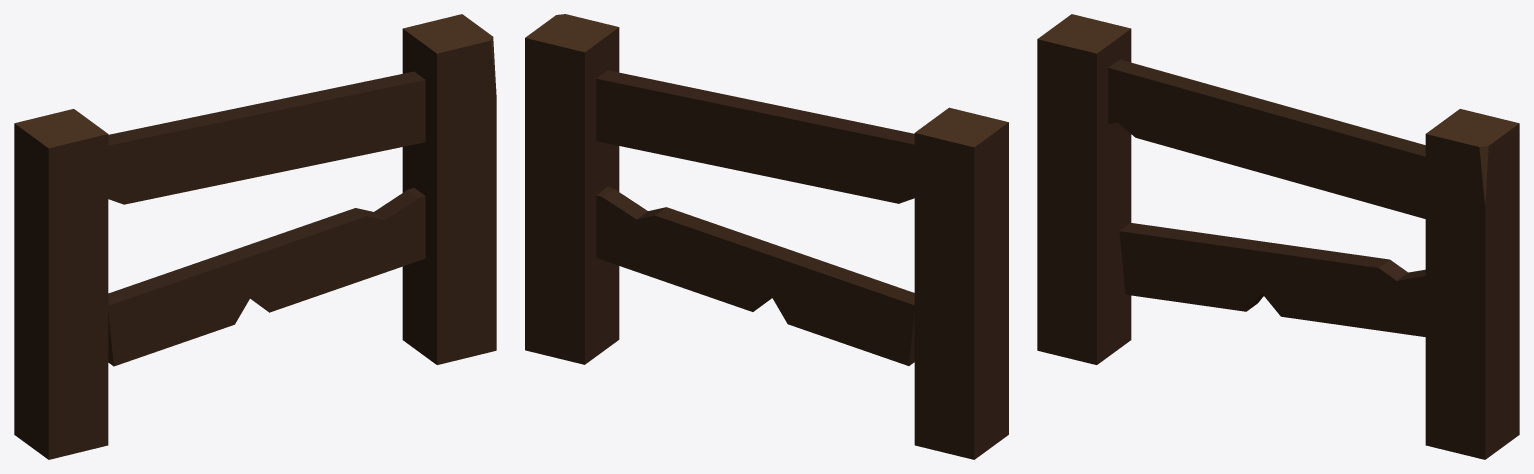
File: Cave_Lair_Wooden_Timber_Fence_Small_02.fbx
The picture shows the model from 3 angles, left to right: view 1: azimuth 30°, elevation 25°; view 2: azimuth 150°, elevation 25°; view 3: azimuth 330°, elevation 25°; orthographic projection.
Parts seen in each view (by area): view 1: Cave_Lair_Wooden_Timber_Fence_Small_02; view 2: Cave_Lair_Wooden_Timber_Fence_Small_02; view 3: Cave_Lair_Wooden_Timber_Fence_Small_02.
Boxes of the visible parts, left/top/right/bottom form: Cave_Lair_Wooden_Timber_Fence_Small_02: left=14, top=14, right=496, bottom=459; Cave_Lair_Wooden_Timber_Fence_Small_02: left=525, top=14, right=1008, bottom=459; Cave_Lair_Wooden_Timber_Fence_Small_02: left=1037, top=14, right=1519, bottom=459.
Bounding box in the file's own units: 1.69 × 1.12 × 0.225.
